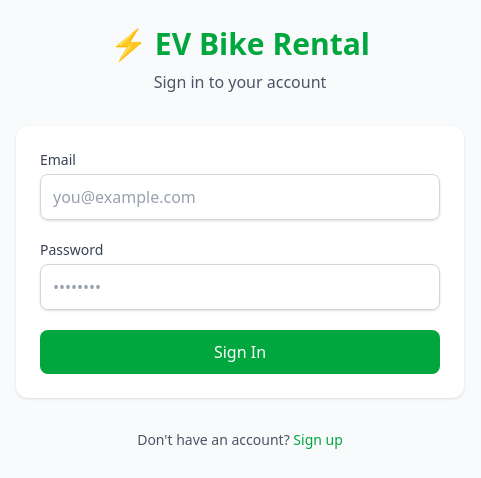
Scenario: Login Page › validates email format
The width and height of the screenshot is (481, 478).
Type "invalid" into the field labelled "Email". click: (240, 197)
box: [40, 174, 440, 220]
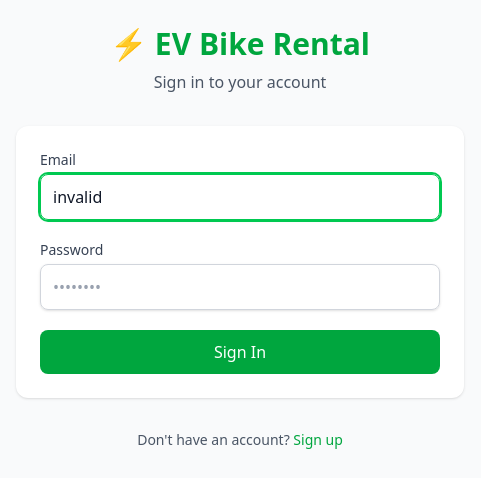
Type "password123" into the password field labelled "Password". click: (240, 287)
box: [40, 264, 440, 310]
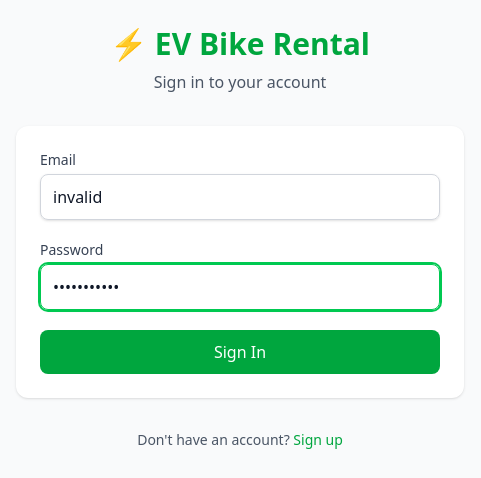
Click the button "Sign In". click: (240, 352)
box: [40, 330, 440, 374]
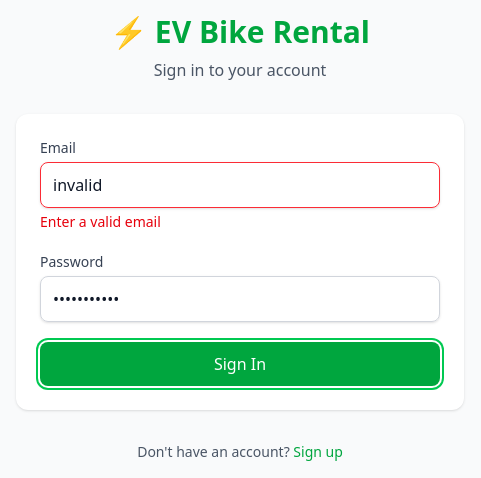
Check: the text "Enter a valid email" is shown, box [40, 212, 161, 231]
